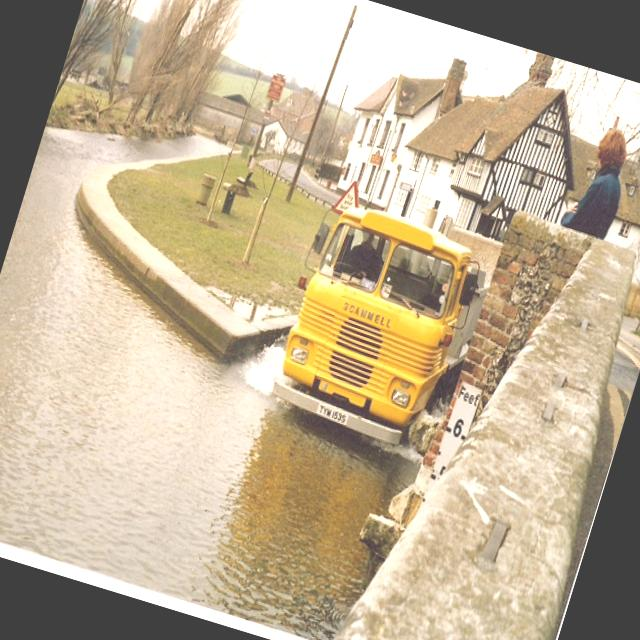Vehicle: (261, 192, 499, 458)
